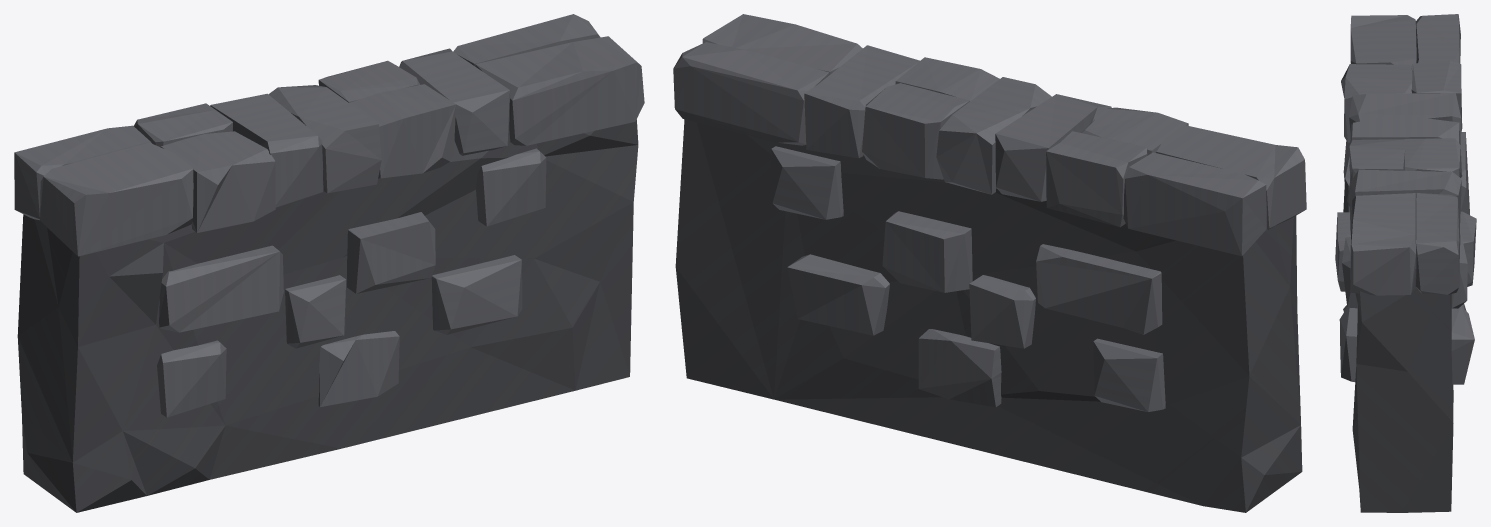
The model's file is Wall_1A.fbx.
3 renders of one model, left to right at view 1: azimuth 30°, elevation 25°; view 2: azimuth 150°, elevation 25°; view 3: azimuth 270°, elevation 25°, orthographic. The views are drawn at different scales.
Parts seen in each view (by area): view 1: polySurface9998; view 2: polySurface9998; view 3: polySurface9998.
Boxes of the visible parts, bbox=[...] form: polySurface9998: bbox=[14, 14, 644, 512]; polySurface9998: bbox=[673, 14, 1306, 512]; polySurface9998: bbox=[1335, 14, 1476, 512].
Bounding box in the file's own units: 414 × 222 × 105.
